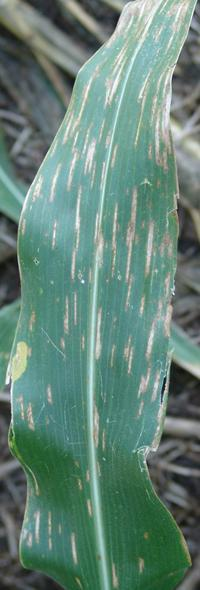Gray_Leaf_Spot: (15, 0, 200, 185), (137, 187, 186, 364), (134, 364, 182, 487), (94, 282, 135, 384), (92, 186, 135, 282), (0, 301, 38, 393), (6, 189, 46, 240), (17, 506, 56, 549), (85, 395, 112, 456), (13, 454, 45, 502), (69, 186, 85, 280), (59, 282, 81, 344), (10, 394, 41, 437), (66, 461, 97, 496), (41, 218, 61, 253), (65, 528, 81, 570), (106, 561, 124, 590), (79, 495, 98, 521), (131, 556, 152, 577), (133, 525, 160, 540), (45, 379, 58, 408)
